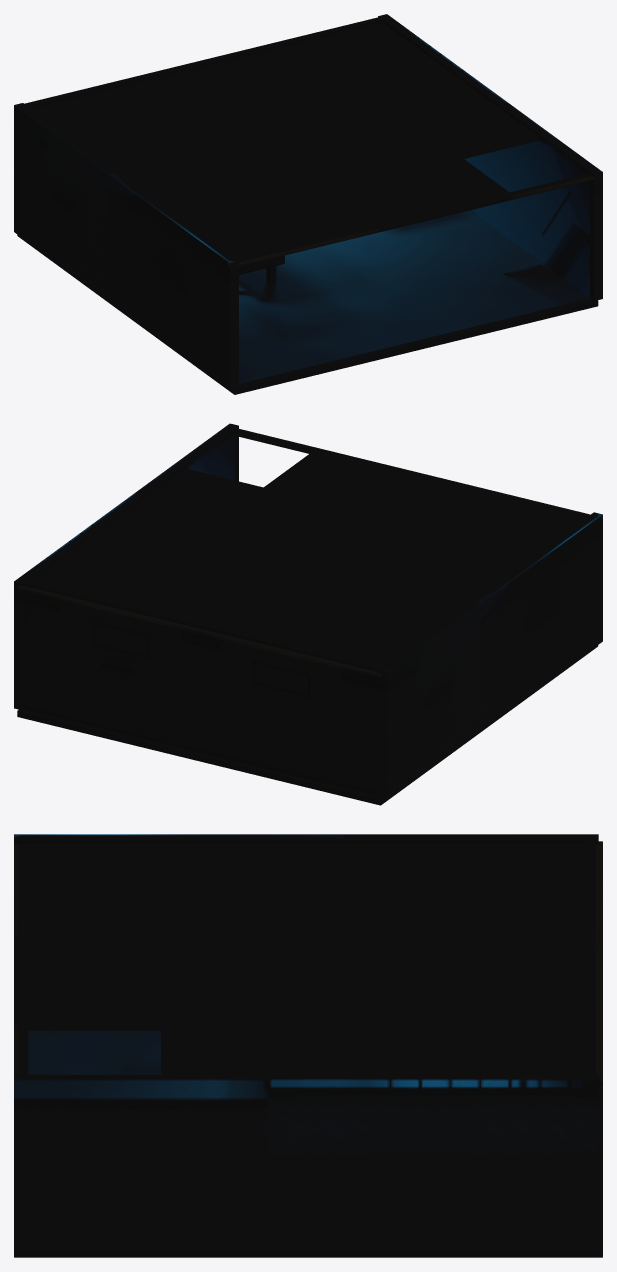
File: basement.glb
3 views of the same model, one above another, from view 1: azimuth 30°, elevation 25°; view 2: azimuth 150°, elevation 25°; view 3: azimuth 270°, elevation 25° (orthographic). The views are drawn at different scales.
Parts seen in each view (by area): view 1: Basement ceiling, Concrete slab, Basement painted masonry side wall, Basement painted masonry side wall.001, Basement painted masonry rear wall; view 2: Basement ceiling, Basement painted masonry rear wall, Basement painted masonry side wall, Basement painted masonry side wall.001, Concrete slab; view 3: Basement ceiling, Basement painted masonry side wall.001, Concrete slab, Basement painted masonry side wall, Basement painted masonry rear wall.
Boxes of the visible parts, <box> form: Basement ceiling: <box>31,23,597,266</box>; Concrete slab: <box>17,210,598,394</box>; Basement painted masonry side wall: <box>14,103,238,389</box>; Basement painted masonry side wall.001: <box>378,14,602,300</box>; Basement painted masonry rear wall: <box>20,16,387,108</box>; Basement ceiling: <box>17,429,590,678</box>; Basement painted masonry rear wall: <box>20,579,386,795</box>; Basement painted masonry side wall: <box>378,512,602,799</box>; Basement painted masonry side wall.001: <box>14,423,238,710</box>; Concrete slab: <box>17,645,598,805</box>; Basement ceiling: <box>14,841,602,1085</box>; Basement painted masonry side wall.001: <box>14,1074,598,1252</box>; Concrete slab: <box>14,1030,602,1257</box>; Basement painted masonry side wall: <box>14,834,598,843</box>; Basement painted masonry rear wall: <box>585,837,595,1077</box>.
Size of the model in its own units: 12.3 by 4.2 by 12.42.
34 materials, 34 textured.
